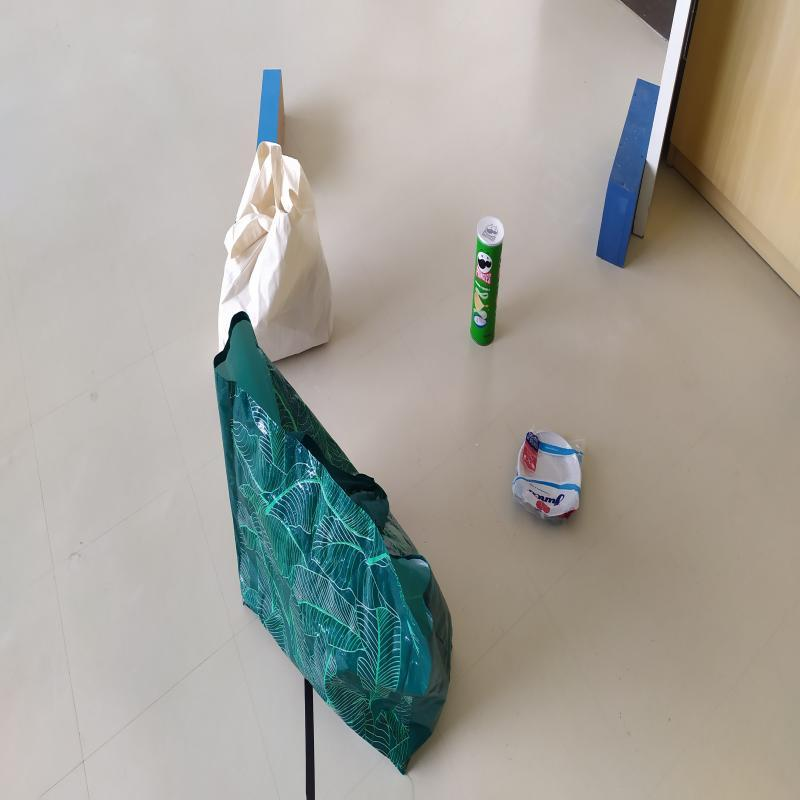Bag: (214, 324, 457, 776), (216, 141, 334, 366)
Plate: (511, 422, 582, 519)
Pringles: (468, 215, 503, 348)
